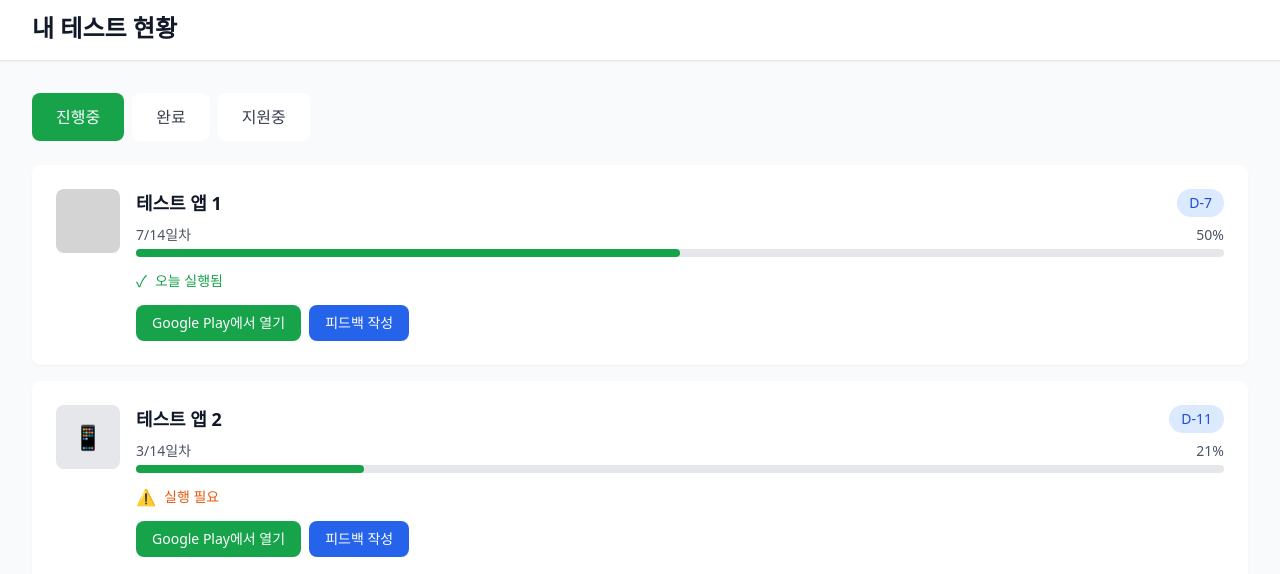
Test: T-03: 내 테스트 현황 › 탭 전환 › 지원중 탭 클릭 시 지원 중인 앱을 표시한다
Check: the heading "테스트 앱 1" is shown, box [136,189,222,217]
지원중 탭 클릭
Click the button "지원중" at (264, 117), box [218,93,310,141]
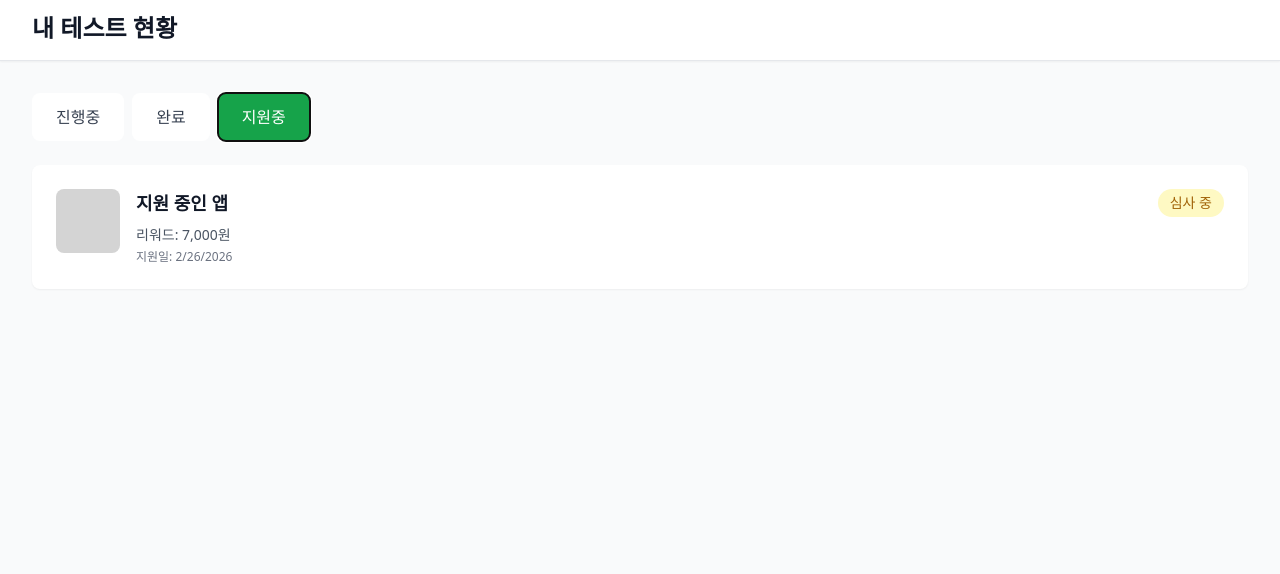
Check: the heading "지원 중인 앱" is shown, box [136,189,228,217]
Check: the heading "테스트 앱 1" is gone
